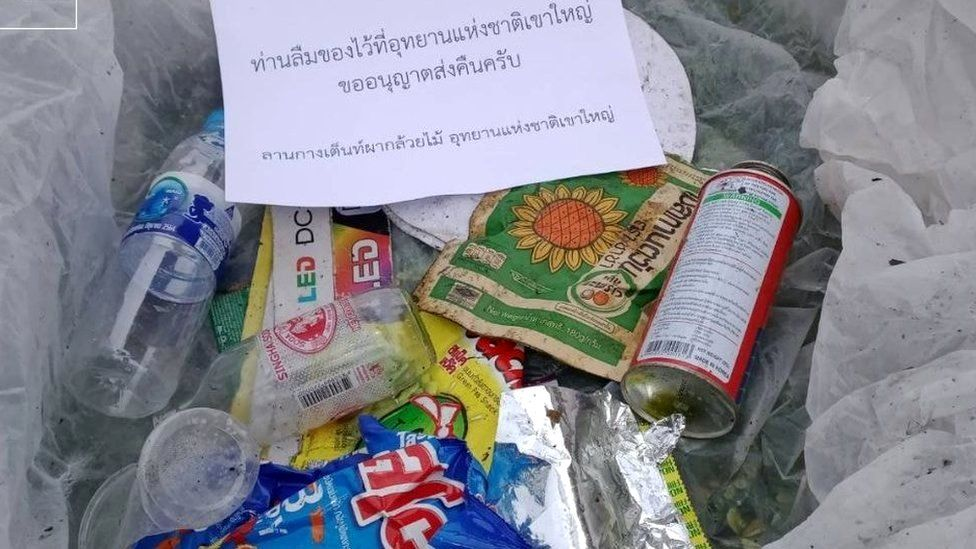plastic_bottle: (31, 24, 406, 480)
